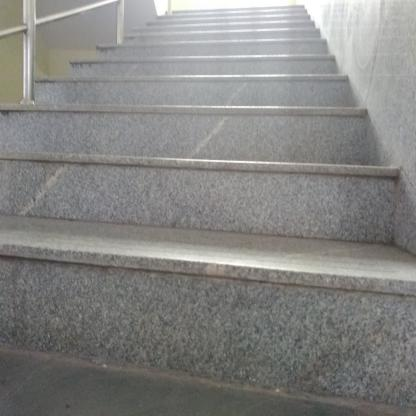stairs: (11, 78, 351, 360)
